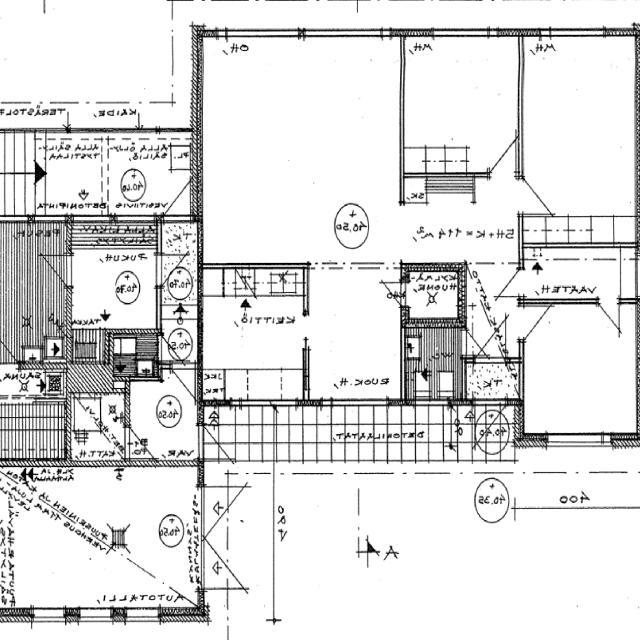door: (198, 485, 245, 538), (198, 538, 245, 591), (475, 316, 506, 362), (475, 399, 504, 445), (519, 178, 552, 214), (488, 136, 516, 178), (163, 181, 190, 224), (198, 424, 230, 458), (519, 307, 550, 339), (41, 254, 71, 286), (157, 254, 187, 286), (198, 325, 227, 356), (171, 361, 195, 398), (496, 269, 524, 297), (380, 280, 408, 308), (125, 428, 152, 457), (597, 299, 619, 331), (0, 334, 19, 369), (462, 331, 486, 355), (158, 336, 180, 360)
